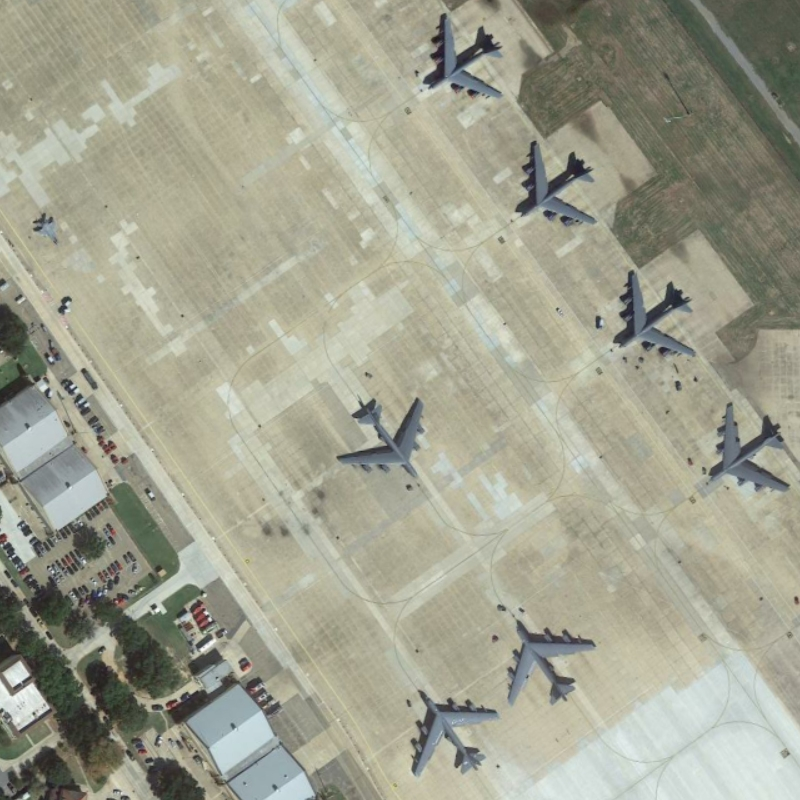A8: (333, 389, 434, 486), (701, 396, 798, 495), (500, 612, 599, 709), (607, 265, 701, 367), (418, 11, 510, 108), (512, 138, 604, 234), (405, 688, 501, 780)
